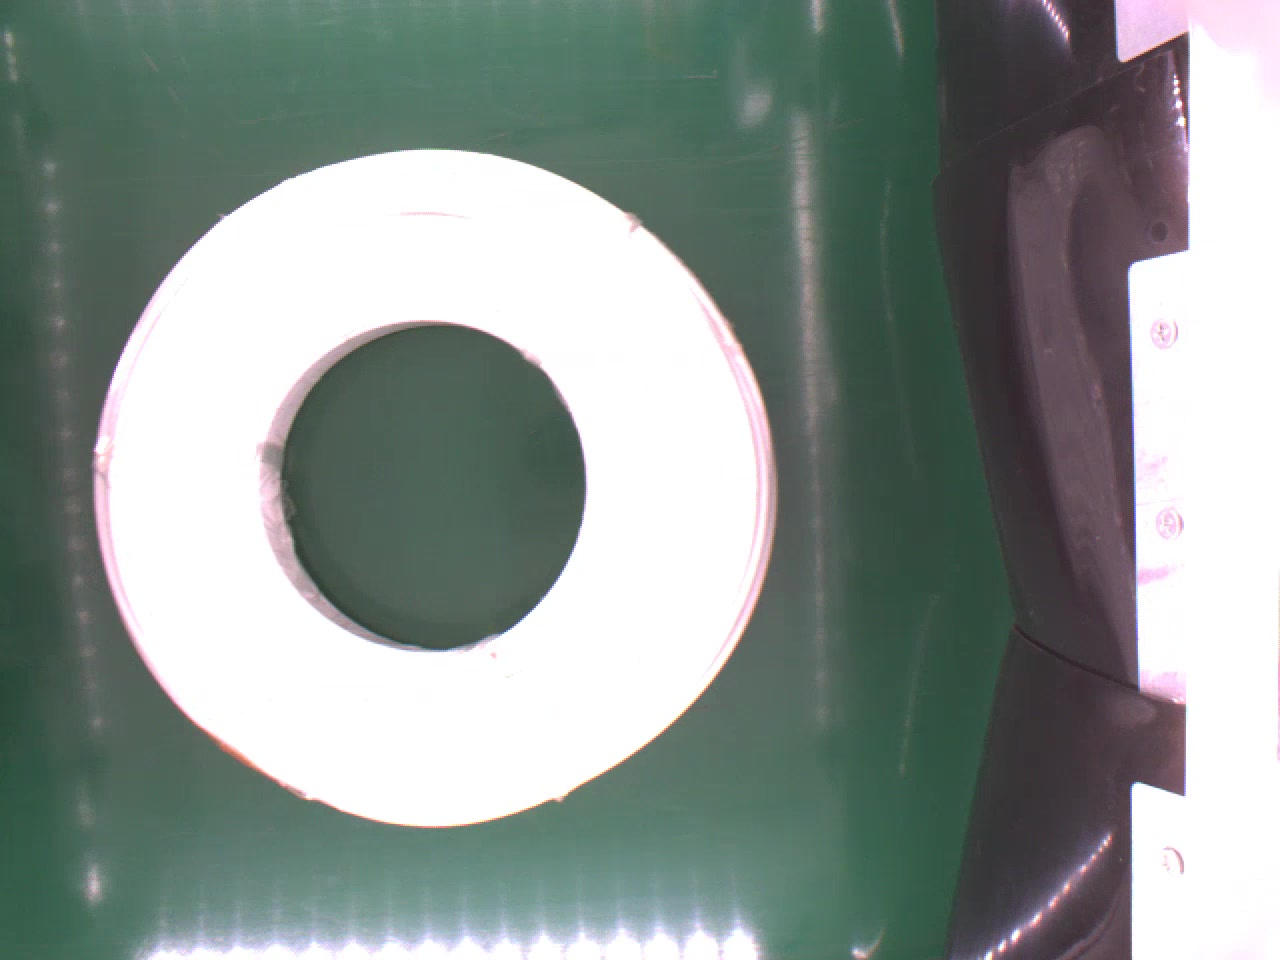white: (87, 142, 787, 830)
